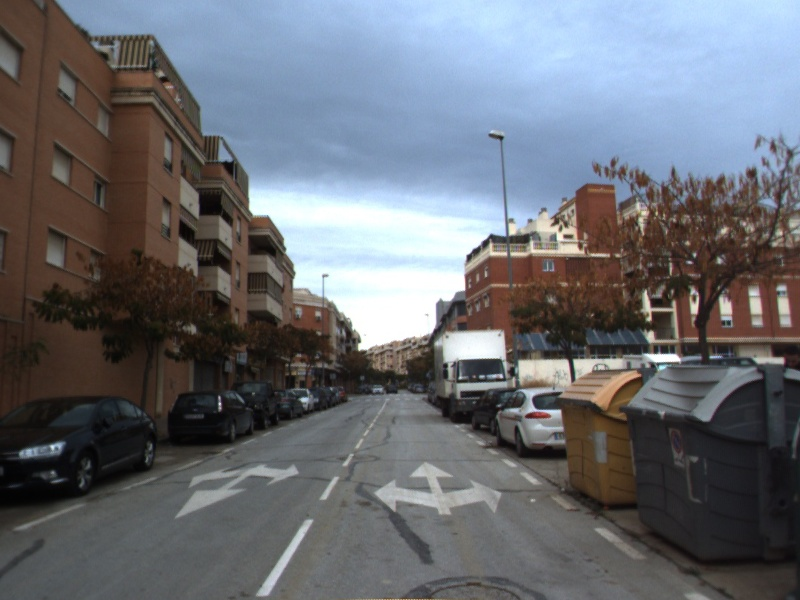STRAIGHT_LEFT_RIGHT: (372, 458, 504, 517)
